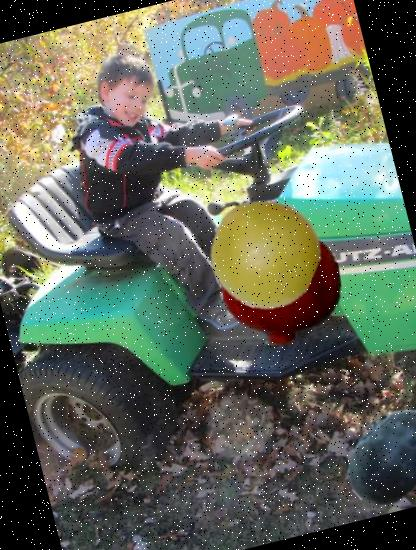Blueberry: (327, 388, 416, 521)
Grape: (198, 187, 331, 320)
Pomegranate: (210, 215, 354, 360)
